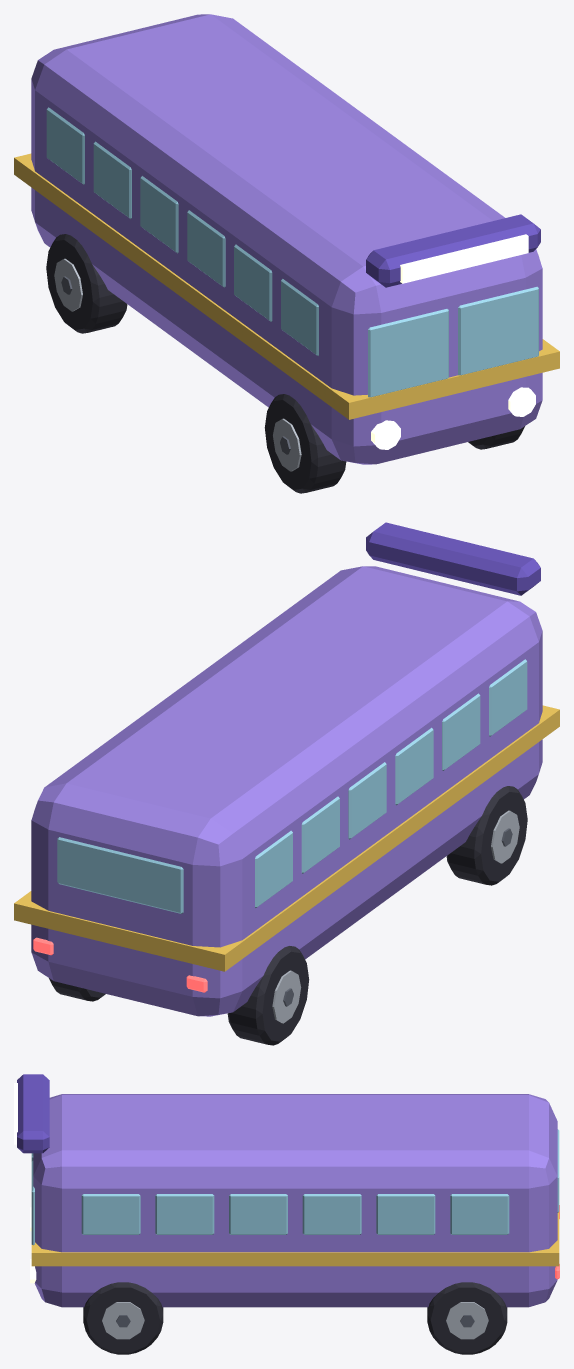
Rendered from veh_bus.glb.
The picture shows the model from 3 angles, top to bottom: view 1: azimuth 30°, elevation 25°; view 2: azimuth 150°, elevation 25°; view 3: azimuth 270°, elevation 25°; orthographic projection. The views are drawn at different scales.
Parts seen in each view (by area): view 1: veh_bus, wheel_fl, wheel_rl; view 2: veh_bus, wheel_fl, wheel_rl; view 3: veh_bus, wheel_fr, wheel_rr.
Boxes of the visible parts, left/top/right/bottom form: veh_bus: left=14, top=14, right=559, bottom=464; wheel_fl: left=264, top=394, right=346, bottom=493; wheel_rl: left=46, top=234, right=127, bottom=333; veh_bus: left=14, top=522, right=559, bottom=1016; wheel_fl: left=446, top=786, right=527, bottom=885; wheel_rl: left=227, top=946, right=309, bottom=1045; veh_bus: left=14, top=1074, right=559, bottom=1307; wheel_fr: left=83, top=1282, right=163, bottom=1354; wheel_rr: left=427, top=1282, right=507, bottom=1354.
Size of the model in its own units: 2.48 by 2.86 by 6.67.
